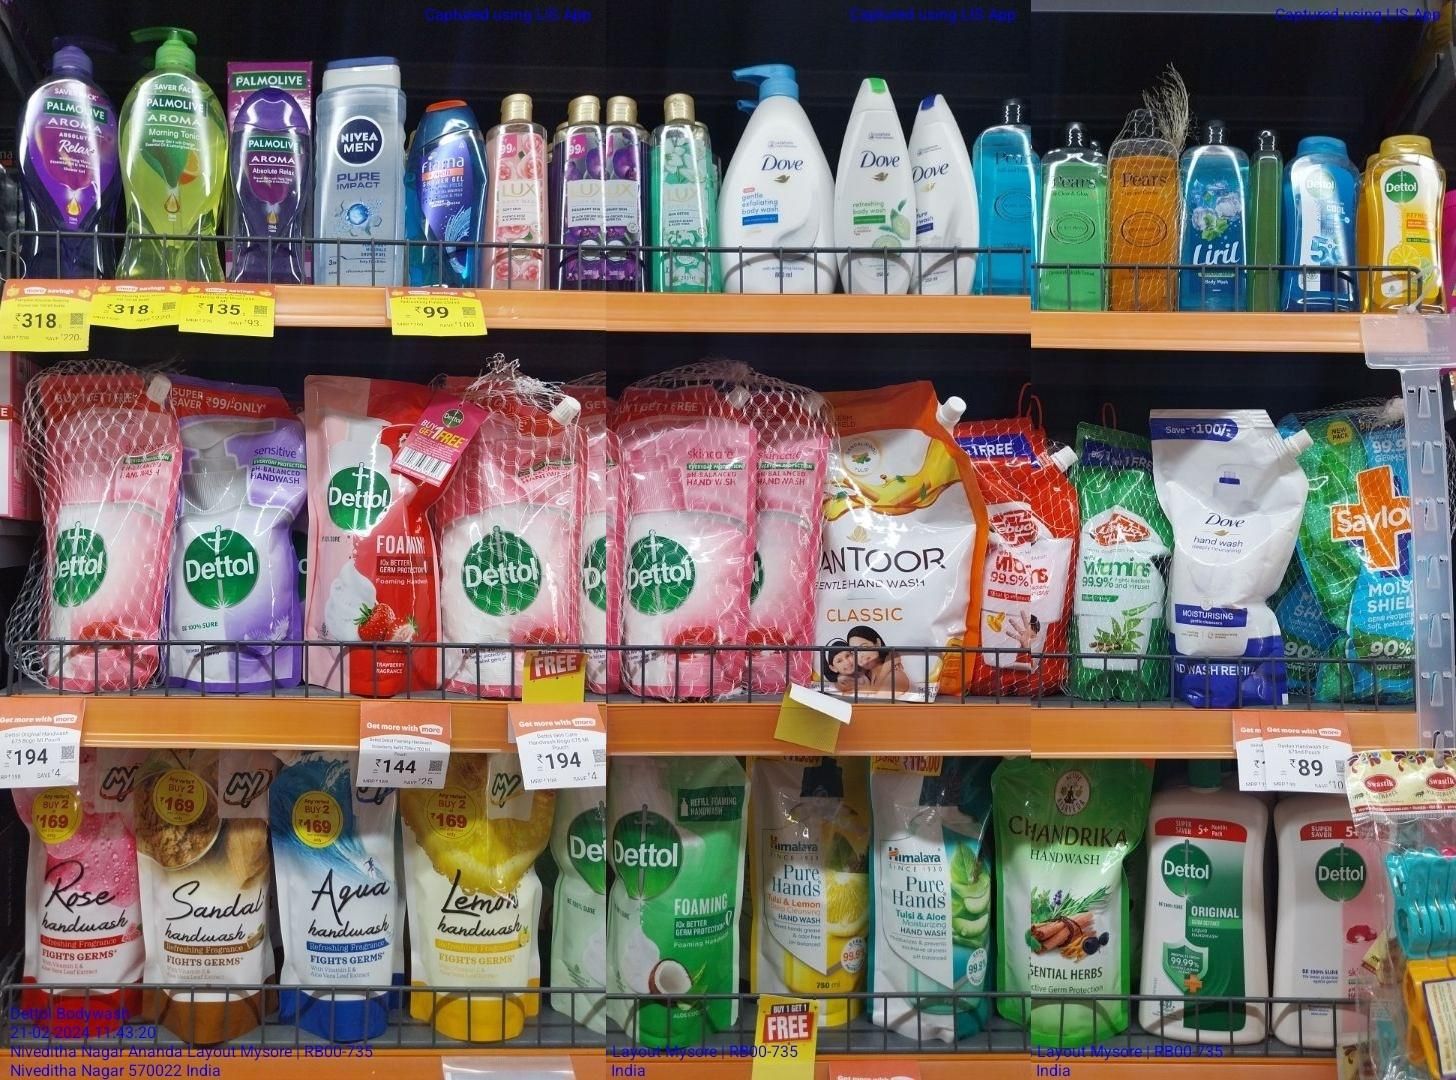Dettol_Bodywash_Cool: (1281, 133, 1362, 311)
Dettol_Bodywash_Refresh: (1361, 133, 1447, 314)
Dove_Deep_Moisture_Body_Wash_250ML: (915, 92, 980, 294)
Dove_Refreshing_Body_Wash_250ML: (833, 75, 915, 295)
Liril_Cooling_Mint_Body_Wash_250ML: (1179, 118, 1253, 311)
Lux_Body_Wash_Skin_Detox_Freesia_Scent_and_Alove_Vera_245ML: (650, 91, 718, 293)
Pears_Pure_Glycerin_and_Lemon_Flower_Extracts_Body_Wash_250ML: (1038, 116, 1109, 312)
